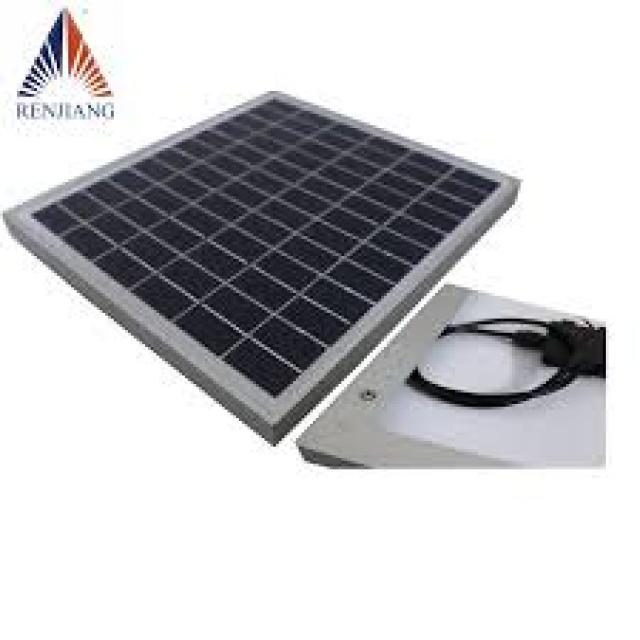no faulty: (33, 100, 499, 400)
